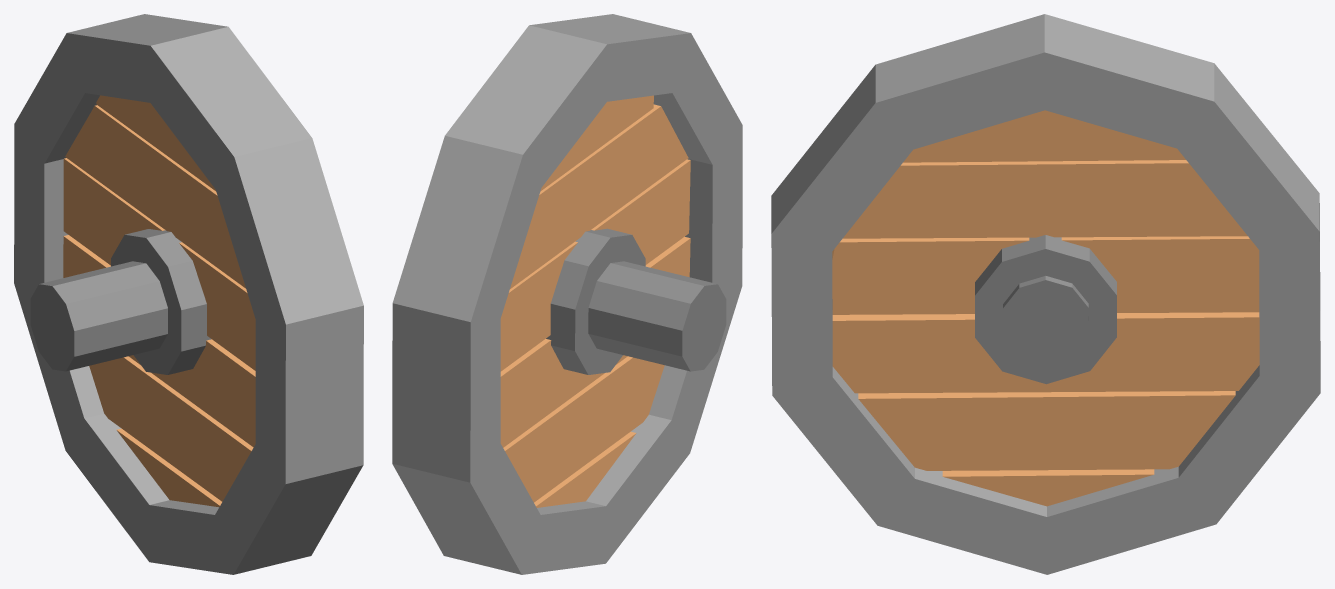
File: wheel.03.fbx
3 views of the same model, side by side, from view 1: azimuth 30°, elevation 25°; view 2: azimuth 150°, elevation 25°; view 3: azimuth 270°, elevation 25° (orthographic).
Parts seen in each view (by area): view 1: wheel.03; view 2: wheel.03; view 3: wheel.03.
Part boxes in pixels (x1,y1,x2,y2): wheel.03: [14, 14, 363, 574]; wheel.03: [392, 14, 742, 574]; wheel.03: [771, 14, 1320, 574].
Bounding box in the file's own units: 0.3472 × 0.9034 × 0.8604.
